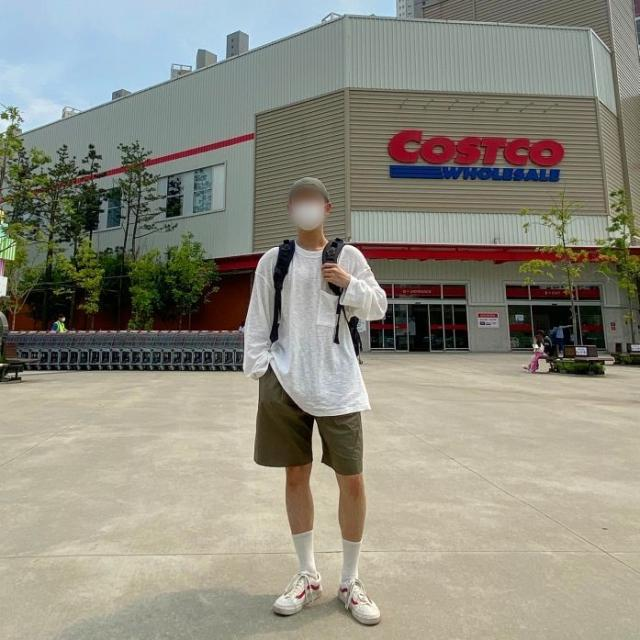longsleeve: (245, 236, 389, 418)
shortpants: (254, 363, 364, 475)
